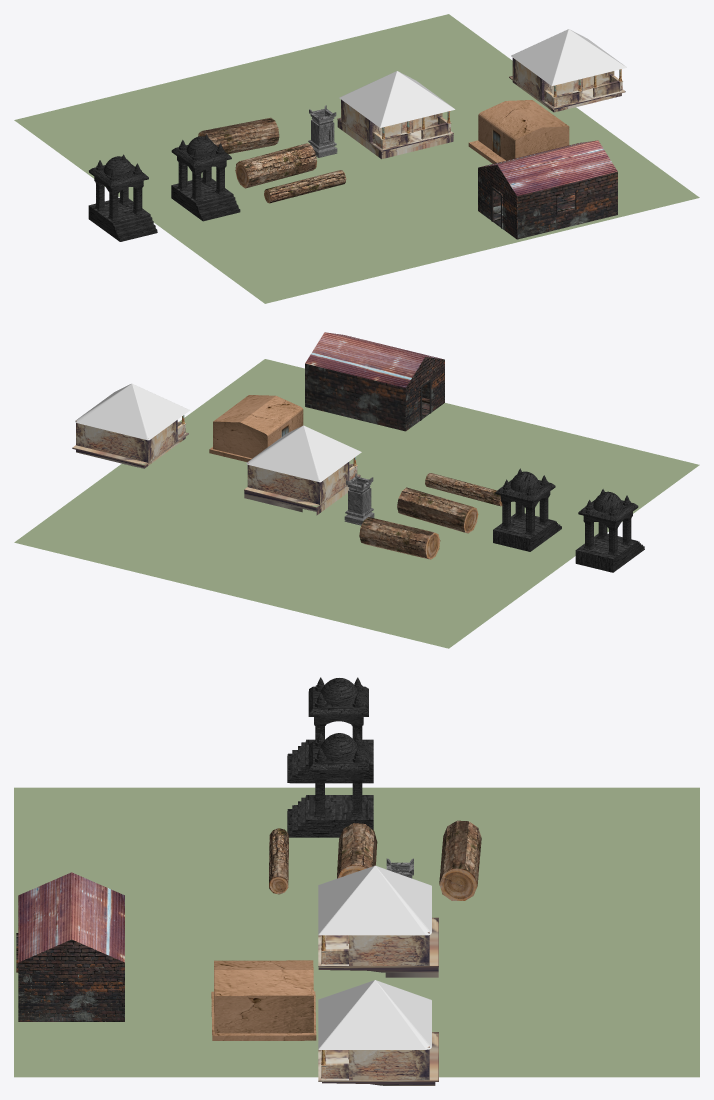
Rendered from TULSI AND HOUSE.fbx.
3 views of the same model, one above another, from view 1: azimuth 30°, elevation 25°; view 2: azimuth 150°, elevation 25°; view 3: azimuth 270°, elevation 25° (orthographic). The views are drawn at different scales.
Parts seen in each view (by area): view 1: Plane, Cube.020, Cube.017, Cube.018, Cube.028, Cylinder.010, Cylinder.011, Cube.035, Cube.005, Cube.027, Cube.040, Cube.007 (+7 smaller); view 2: Plane, Cube.020, Cube.017, Cube.018, Cube.028, Cube.040, Cube.027, Cylinder.011, Cylinder.010, Cube.035, Cube.005, Cube.007 (+5 smaller); view 3: Plane, Cube.020, Cube.017, Cube.018, Cube.028, Cylinder.011, Cube.005, Cube.027, Cube.040, Cube.007, Cylinder.010, Cube.021 (+7 smaller).
Boxes of the visible parts, x1,y1,x2,y2 form: Plane: (14, 14, 699, 303); Cube.020: (478, 140, 617, 239); Cube.017: (478, 100, 569, 160); Cube.018: (339, 71, 455, 127); Cube.028: (511, 29, 626, 85); Cylinder.010: (235, 143, 316, 188); Cylinder.011: (198, 117, 279, 153); Cube.035: (88, 198, 157, 241); Cube.005: (171, 177, 240, 221); Cube.027: (512, 58, 614, 100); Cube.040: (341, 99, 442, 142); Cube.007: (337, 117, 453, 159); Plane: (14, 359, 699, 648); Cube.020: (305, 332, 444, 431); Cube.017: (213, 395, 303, 458); Cube.018: (246, 425, 361, 482); Cube.028: (75, 383, 189, 440); Cube.040: (247, 462, 349, 504); Cube.027: (76, 420, 177, 462); Cylinder.011: (359, 517, 440, 559); Cylinder.010: (397, 487, 478, 533); Cube.035: (575, 533, 644, 572); Cube.005: (493, 513, 561, 551); Cube.007: (244, 474, 360, 515); Plane: (14, 787, 699, 1077); Cube.020: (16, 872, 124, 1021); Cube.017: (214, 960, 313, 1033); Cube.018: (318, 865, 431, 935); Cube.028: (318, 980, 431, 1049); Cylinder.011: (439, 820, 481, 900); Cube.005: (287, 795, 373, 837); Cube.027: (348, 1046, 429, 1080); Cube.040: (349, 932, 429, 965); Cube.007: (318, 917, 438, 977); Cylinder.010: (337, 823, 377, 878); Cube.021: (318, 1032, 438, 1085).
Size of the model in its own units: 68516 by 9210 by 57297.
15 materials, 11 textured.
